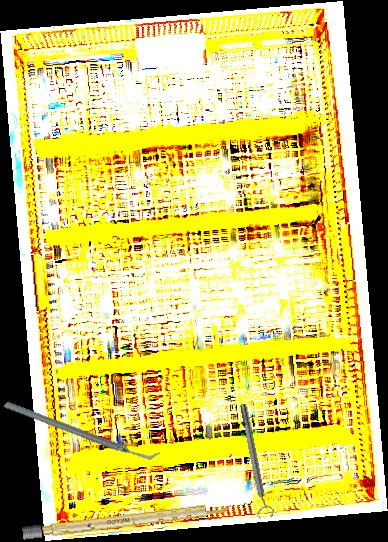Chopper: (2, 351, 161, 509)
Fixation Ring: (235, 402, 275, 520)
Scalpel Handle: (21, 501, 233, 540)
